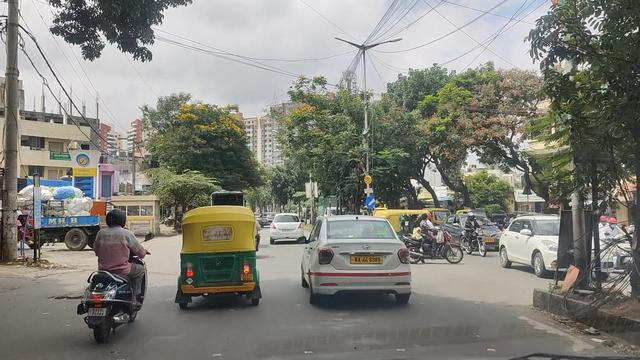LMV: (303, 215, 412, 306), (177, 209, 261, 304), (88, 213, 144, 351), (267, 213, 304, 244)
RoadDamages: (39, 274, 85, 311)
